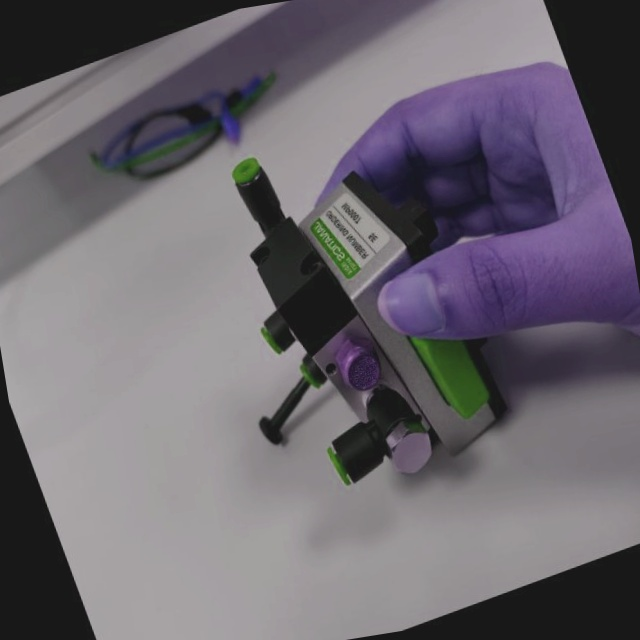5by2 DCV: (149, 71, 535, 542)
